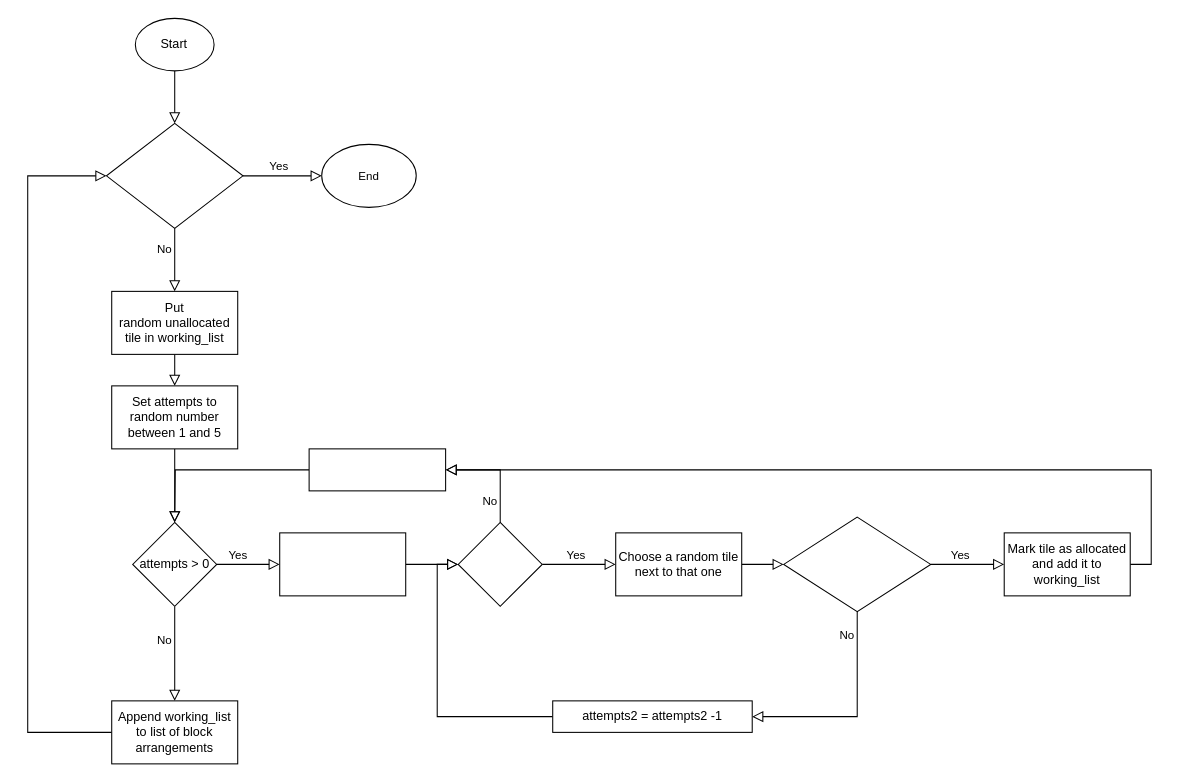
Some shapes in this 1180 by 782 pixel diagram are drawn without their labels. The shapes that lost their labels are listed below. From the top down, each one's centre as x and y in pixels, then its label:
(174,175): Have all tiles been allocated?
(377,469): attempts = attempts -1
(342,564): Choose random block from working list, attempts2 = 20
(499,563): attempts2 > 0
(857,564): Is that tile valid and unallocated?
